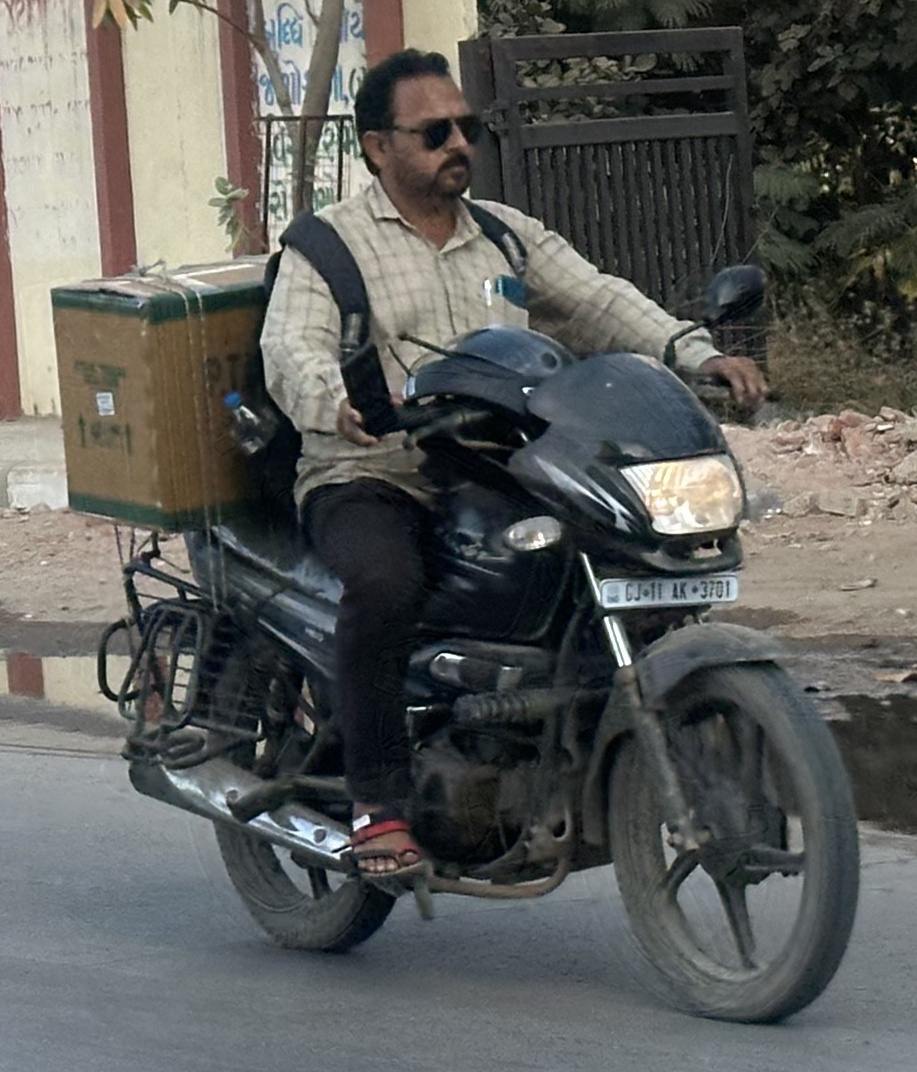BikeWithRider: (63, 37, 876, 1037)
NoHelmet: (337, 39, 497, 211)
